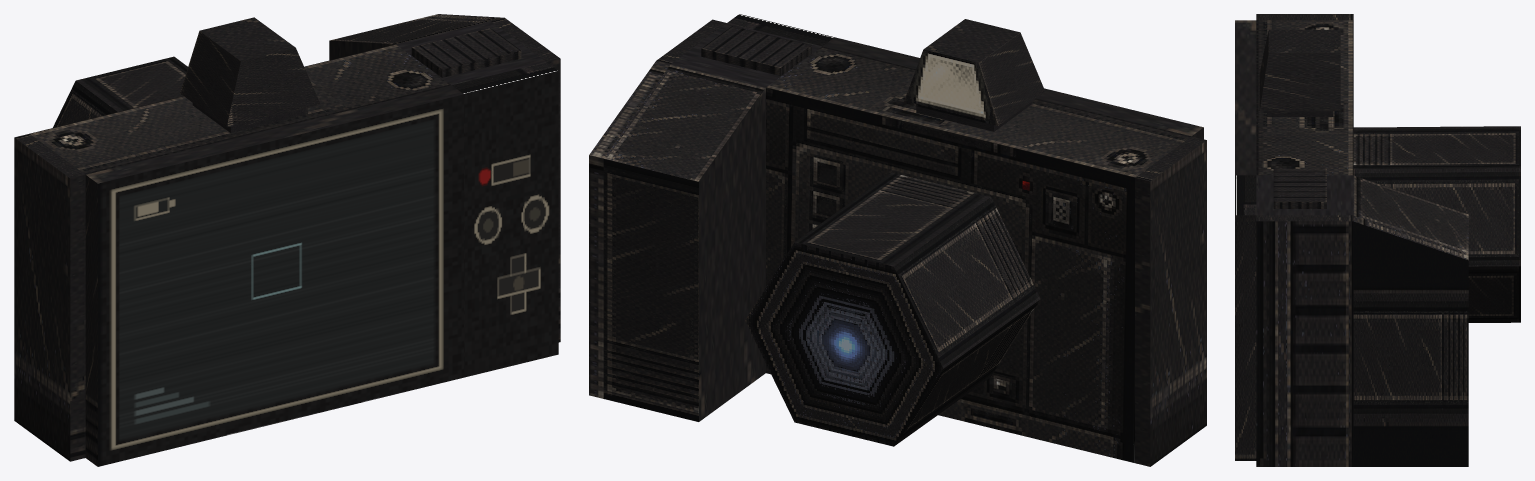
File: cam.glb
The picture shows the model from 3 angles, left to right: view 1: azimuth 30°, elevation 25°; view 2: azimuth 150°, elevation 25°; view 3: azimuth 270°, elevation 25°; orthographic projection. The views are drawn at different scales.
Parts seen in each view (by area): view 1: body, flash, barrel, shutter; view 2: body, barrel, flash, shutter; view 3: body, barrel, flash, shutter.
Boxes of the visible parts, x1=… form: body: x1=14, y1=14, x2=560, y2=466; flash: x1=180, y1=17, x2=320, y2=132; barrel: x1=53, y1=56, x2=187, y2=127; shutter: x1=411, y1=28, x2=521, y2=77; body: x1=589, y1=14, x2=1206, y2=466; barrel: x1=745, y1=172, x2=1040, y2=446; flash: x1=903, y1=19, x2=1045, y2=131; shutter: x1=701, y1=26, x2=811, y2=75; body: x1=1235, y1=14, x2=1468, y2=466; barrel: x1=1353, y1=126, x2=1520, y2=322; flash: x1=1259, y1=29, x2=1340, y2=116; shutter: x1=1273, y1=168, x2=1326, y2=208.
Bounding box in the file's own units: 3.62 × 2.49 × 2.11.
4 materials, 4 textured.
